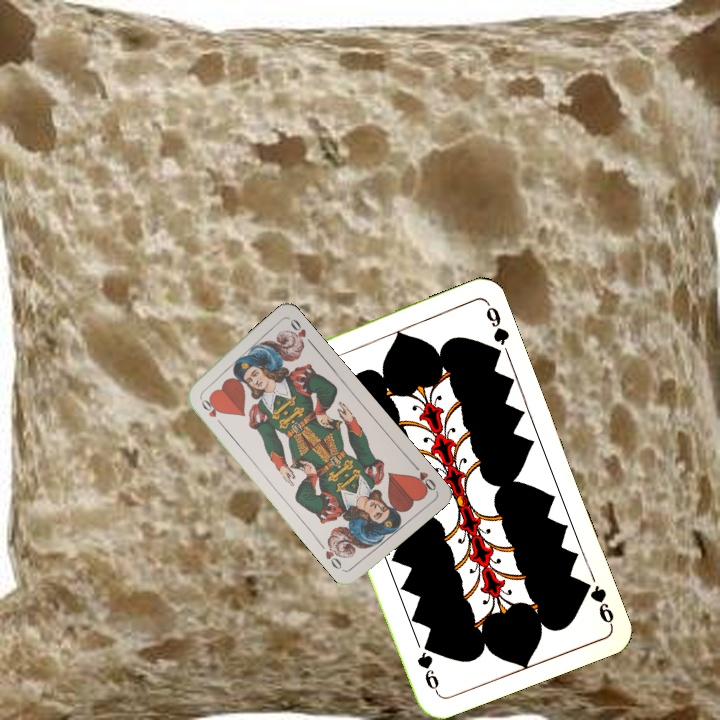G9: (576, 575, 617, 628)
HO: (408, 459, 439, 494), (195, 393, 225, 428)
